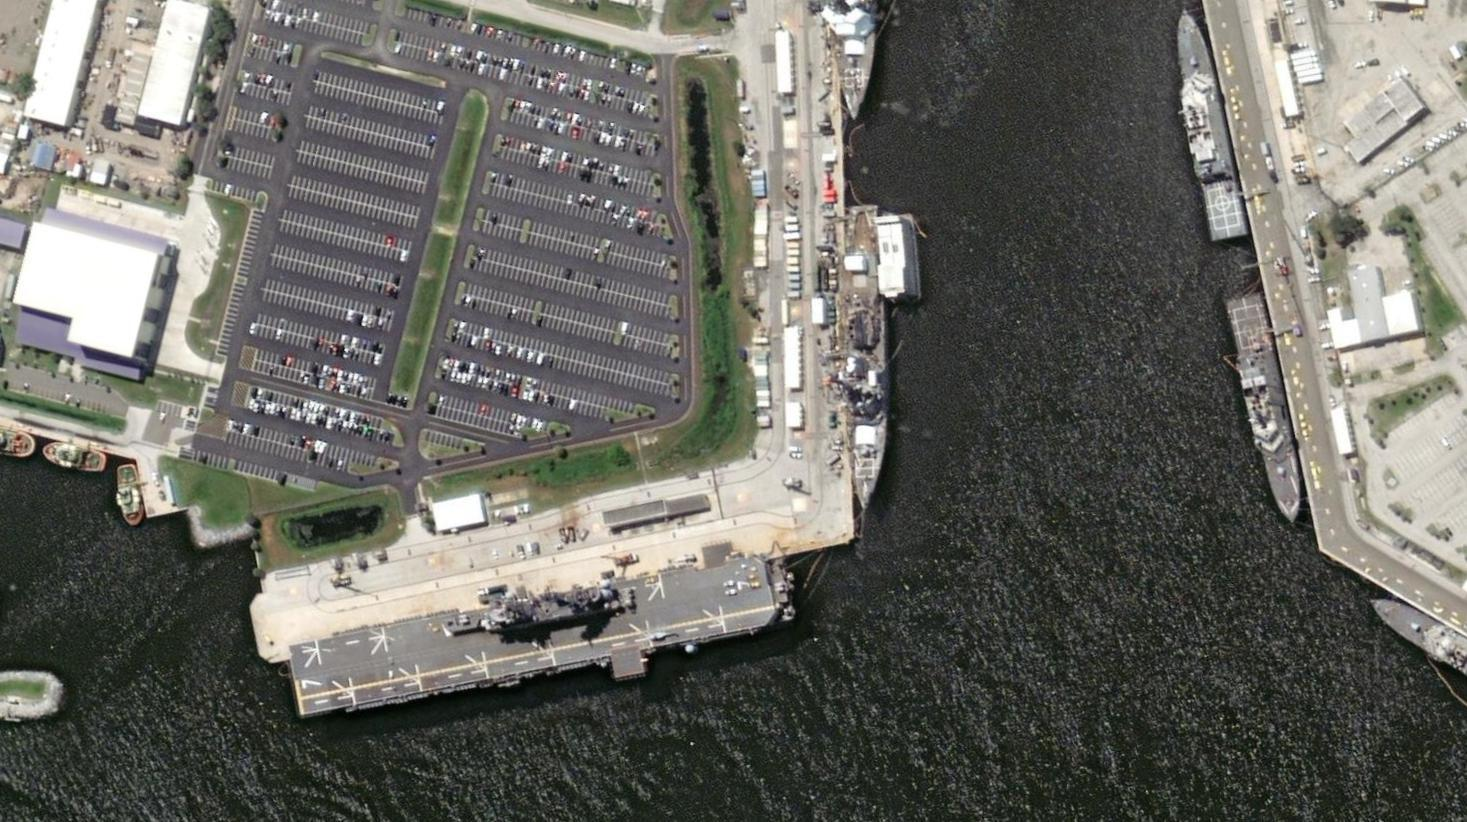fregate: (829, 204, 914, 520)
patrol: (1162, 1, 1264, 253), (1212, 287, 1314, 531)
pha: (281, 531, 815, 733)
